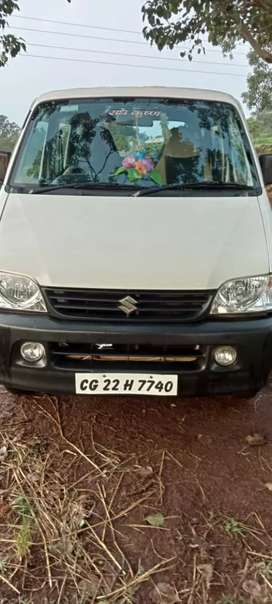CG22H7740: (74, 372, 178, 395)
